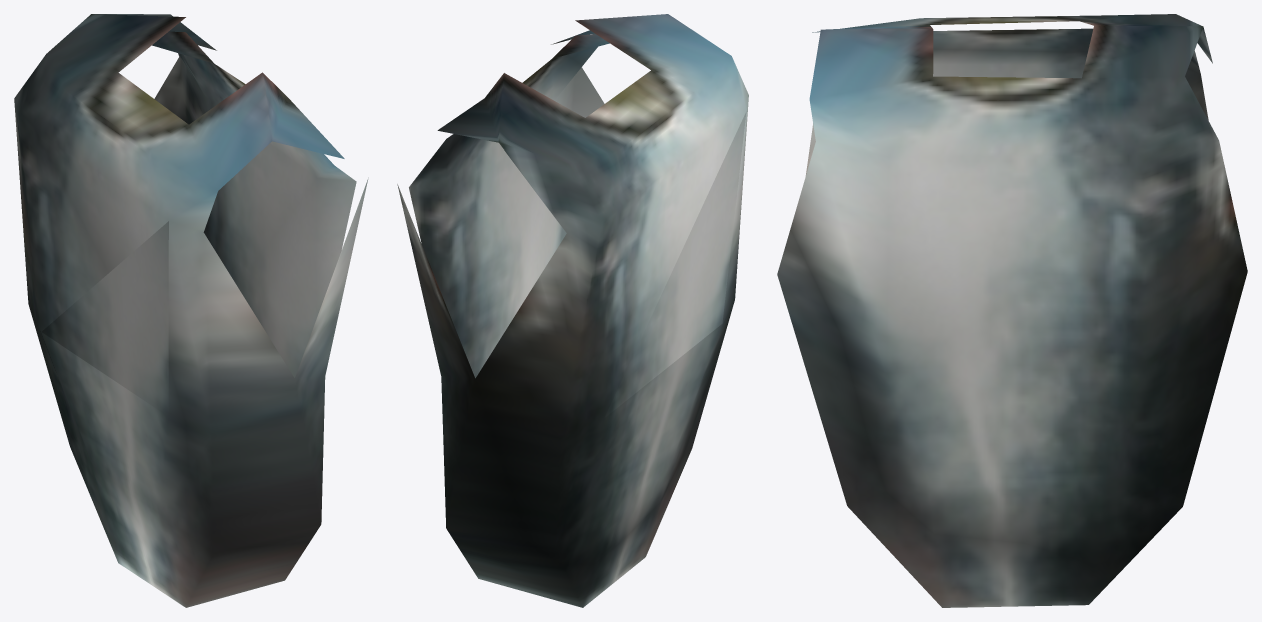
The model's file is hauberk.glb.
3 renders of one model, left to right at view 1: azimuth 30°, elevation 25°; view 2: azimuth 150°, elevation 25°; view 3: azimuth 270°, elevation 25°, orthographic. The views are drawn at different scales.
Visible parts, largest first — view 1: hauberk.ms3d.mo; view 2: hauberk.ms3d.mo; view 3: hauberk.ms3d.mo.
Part boxes in pixels (x1,y1,x2,y2): hauberk.ms3d.mo: (14,14,368,607); hauberk.ms3d.mo: (397,14,748,607); hauberk.ms3d.mo: (777,14,1247,607).
Bounding box in the file's own units: 7.16 × 19.07 × 14.23.
Materials: 1 (1 with a texture image).
